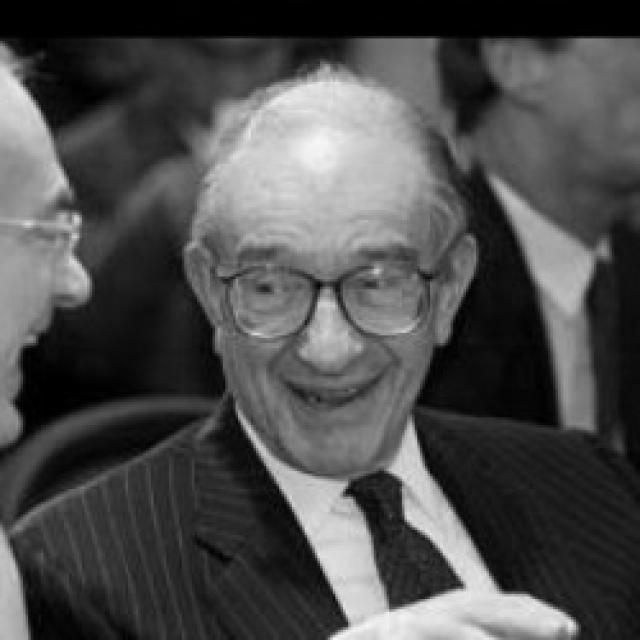real: (216, 128, 434, 477), (244, 264, 415, 321)
